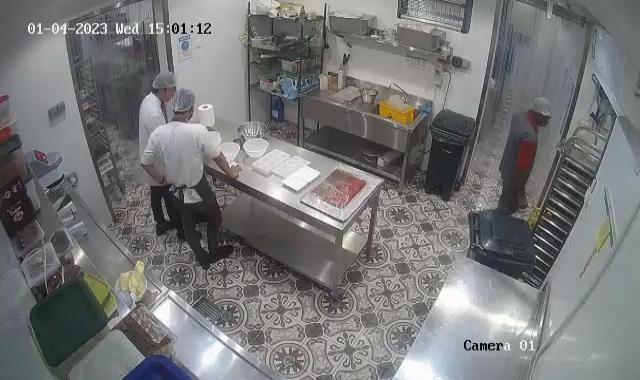hairnet: (172, 88, 196, 114), (528, 95, 554, 118), (150, 73, 178, 94)
